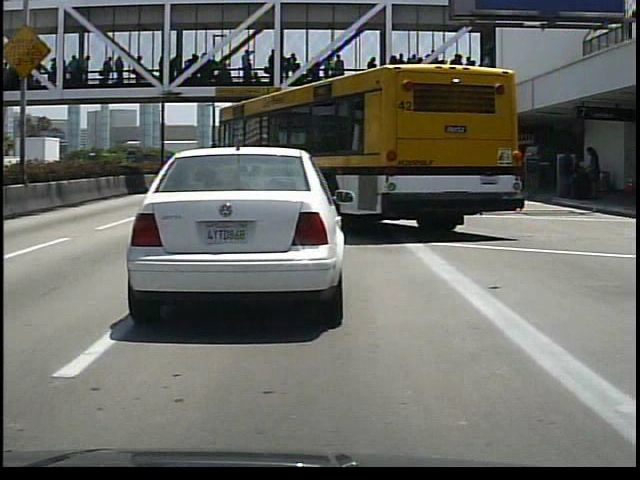person: (581, 144, 609, 206), (556, 142, 584, 203)
